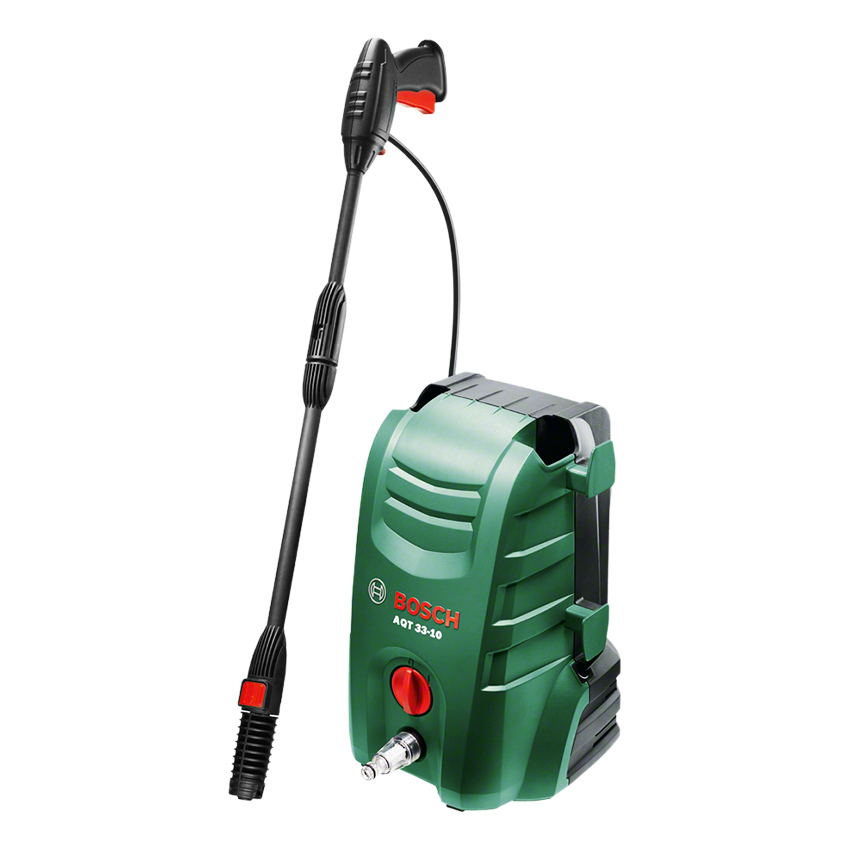Bosch: (393, 587, 467, 634)
